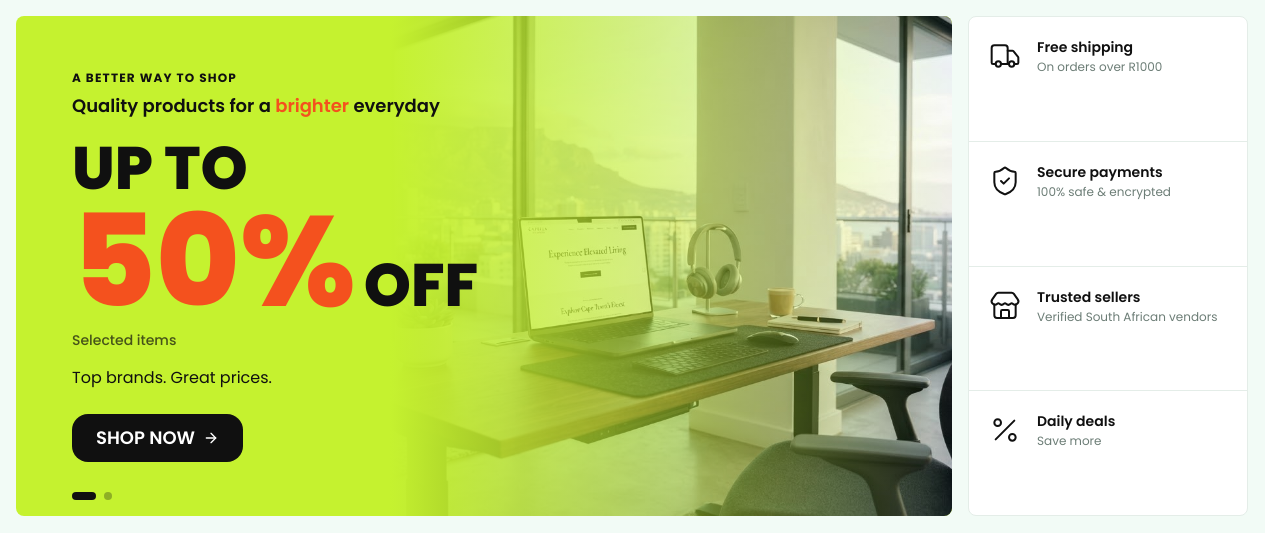
Scenario: HeroSection › switches slide when a dot is clicked
Click the button named "Go to slide 2" at (108, 496), box 104,492 -> 112,500
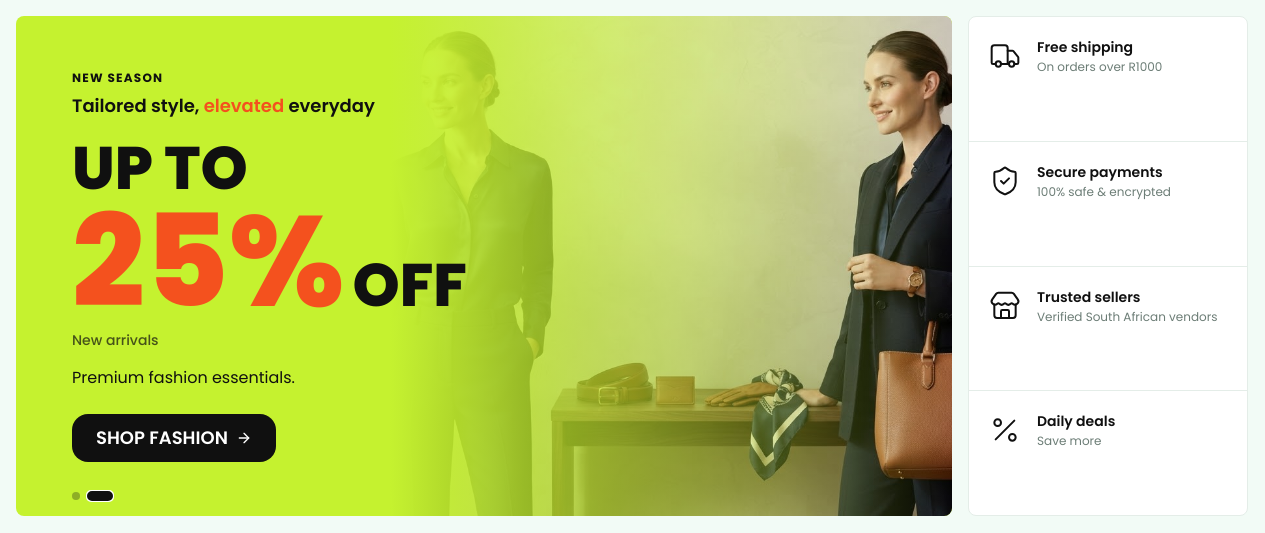
Now the text "New Season" is shown, box 72,69 -> 163,86
Now the text "25%" is shown, box 72,198 -> 344,326
